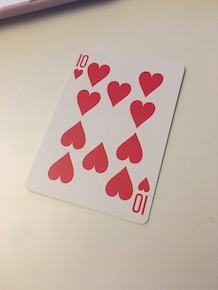TenOfHearts: (23, 45, 187, 225)
